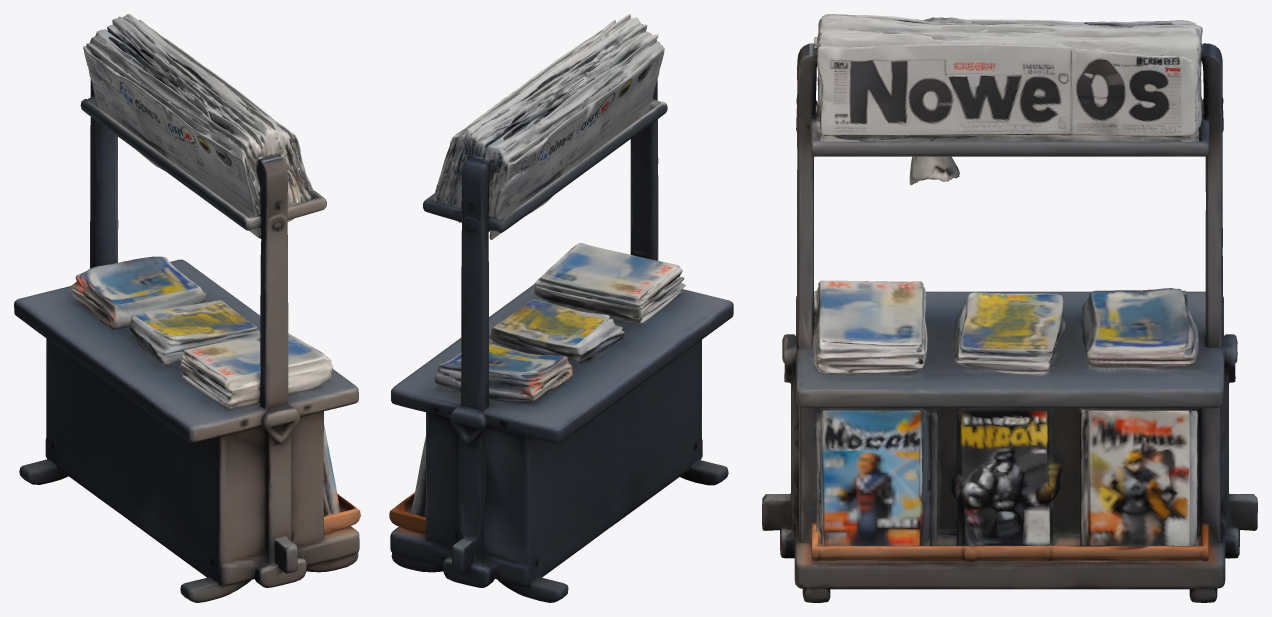
Rendered from prop-newspaper-stand.glb.
3 renders of one model, left to right at view 1: azimuth 30°, elevation 25°; view 2: azimuth 150°, elevation 25°; view 3: azimuth 270°, elevation 25°, orthographic. The views are drawn at different scales.
Parts seen in each view (by area): view 1: tripo_node_6bd9f29a-3baa-4a71-b82b-627a1028b269; view 2: tripo_node_6bd9f29a-3baa-4a71-b82b-627a1028b269; view 3: tripo_node_6bd9f29a-3baa-4a71-b82b-627a1028b269.
Part boxes in pixels (x1,y1,x2,y2): tripo_node_6bd9f29a-3baa-4a71-b82b-627a1028b269: [14, 14, 360, 602]; tripo_node_6bd9f29a-3baa-4a71-b82b-627a1028b269: [389, 14, 733, 602]; tripo_node_6bd9f29a-3baa-4a71-b82b-627a1028b269: [762, 14, 1257, 602].
Bounding box in the file's own units: 0.616 × 1.5 × 1.23.
1 material, 1 textured.
